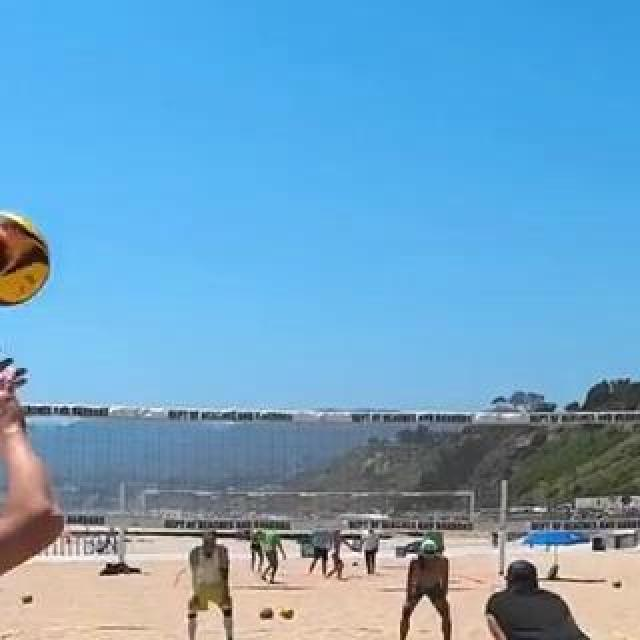volleyball: (2, 209, 50, 307), (259, 607, 275, 621), (280, 606, 296, 620), (22, 592, 34, 604)
